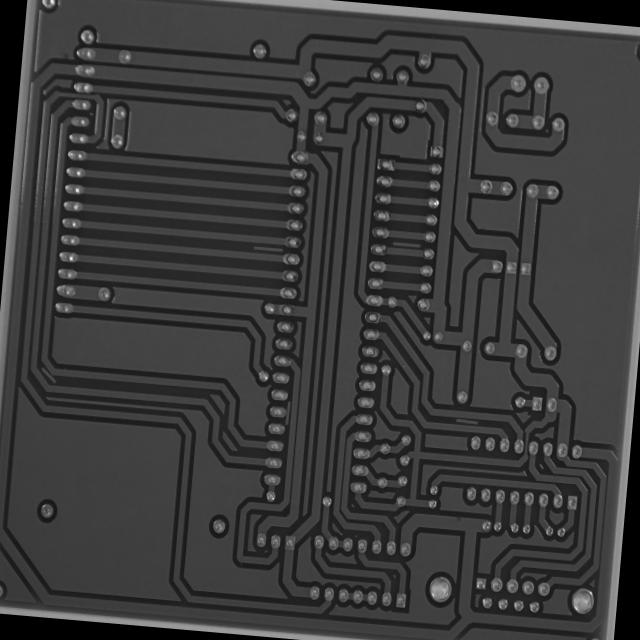spurious_copper: (251, 240, 284, 256), (36, 364, 58, 384), (390, 237, 422, 250), (454, 413, 479, 428), (282, 398, 294, 428)
